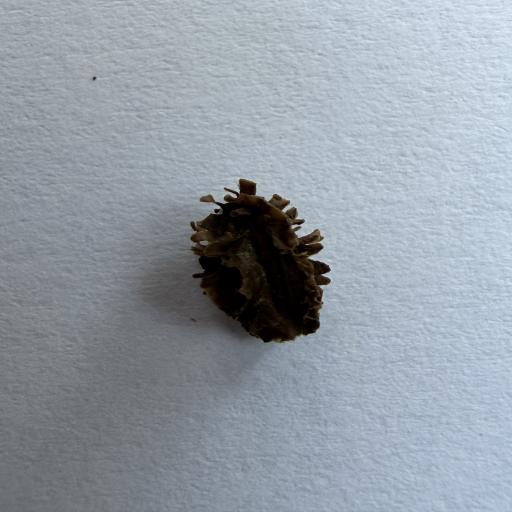papaya_seed: (171, 165, 390, 367)
